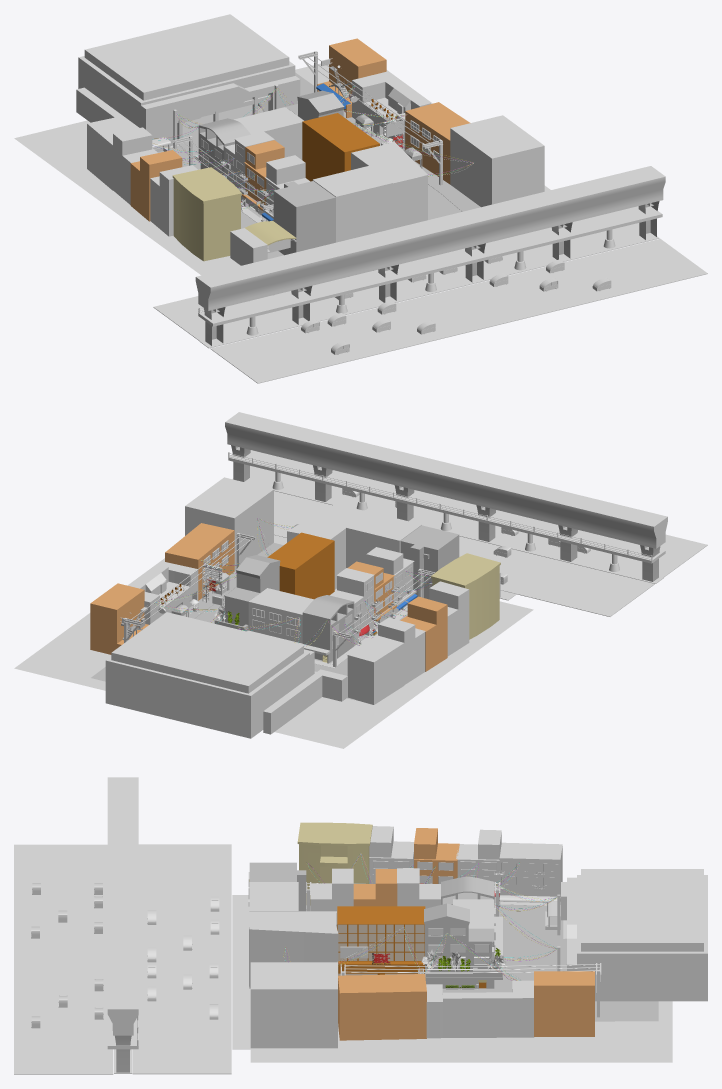
Rendered from Current.fbx.
3 renders of one model, top to bottom at view 1: azimuth 30°, elevation 25°; view 2: azimuth 150°, elevation 25°; view 3: azimuth 270°, elevation 25°, orthographic. The views are drawn at different scales.
Parts seen in each view (by area): view 1: Plane.045, Cube.116, Cube.134, Cube.117, Block2ndEntrance2.002, Plane.058, BuildingNearArch.001, Plane.044, Block2ndEntrance2.003, ArchBuildingTall.001, Plane.043, Block2ndEntrance.001 (+23 smaller); view 2: Cube.134, Cube.116, Plane.058, Plane.044, Cube.117, Block2ndEntrance2.002, Plane.045, Blcok2.016, Block3.005, BuildingNearArch.001, Cube.115, Blcok2.020 (+22 smaller); view 3: Plane.045, Plane.044, Cube.134, Plane.058, Cube.116, Block2ndEntrance2.002, MainStreetStructure.001, Blcok2.018, Blcok2.016, Blcok2.019, Block2ndEntrance.001, BuildingNearArch.001 (+19 smaller).
Boxes of the visible parts, left/top/right/bottom form: Plane.045: left=210, top=238, right=707, bottom=383; Cube.116: left=195, top=166, right=665, bottom=310; Cube.134: left=78, top=14, right=300, bottom=149; Cube.117: left=198, top=206, right=662, bottom=326; Block2ndEntrance2.002: left=450, top=115, right=544, bottom=207; Plane.058: left=14, top=63, right=550, bottom=275; BuildingNearArch.001: left=172, top=167, right=241, bottom=261; Plane.044: left=153, top=223, right=639, bottom=341; Block2ndEntrance2.003: left=312, top=165, right=392, bottom=242; ArchBuildingTall.001: left=273, top=181, right=335, bottom=255; Plane.043: left=200, top=233, right=659, bottom=348; Block2ndEntrance.001: left=351, top=141, right=427, bottom=228; Cube.134: left=105, top=612, right=314, bottom=738; Cube.116: left=225, top=412, right=667, bottom=548; Plane.058: left=14, top=558, right=533, bottom=748; Plane.044: left=274, top=491, right=654, bottom=616; Cube.117: left=228, top=450, right=665, bottom=563; Block2ndEntrance2.002: left=185, top=477, right=273, bottom=570; Plane.045: left=250, top=466, right=707, bottom=577; Blcok2.016: left=267, top=532, right=334, bottom=599; Block3.005: left=346, top=635, right=404, bottom=704; BuildingNearArch.001: left=431, top=553, right=500, bottom=639; Cube.115: left=231, top=445, right=660, bottom=581; Blcok2.020: left=90, top=583, right=148, bottom=654; Plane.045: left=14, top=844, right=113, bottom=1074; Plane.044: left=132, top=844, right=231, bottom=1074; Cube.134: left=567, top=869, right=707, bottom=1001; Plane.058: left=250, top=920, right=672, bottom=1062; Cube.116: left=107, top=777, right=138, bottom=1035; Block2ndEntrance2.002: left=250, top=962, right=337, bottom=1048; MainStreetStructure.001: left=306, top=904, right=658, bottom=1028; Blcok2.018: left=338, top=974, right=426, bottom=1040; Blcok2.016: left=337, top=906, right=425, bottom=975; Blcok2.019: left=426, top=980, right=534, bottom=1038; Block2ndEntrance.001: left=249, top=911, right=338, bottom=988; BuildingNearArch.001: left=297, top=822, right=372, bottom=905.
Bounding box in the file's own units: 12587 × 1921 × 15909.
